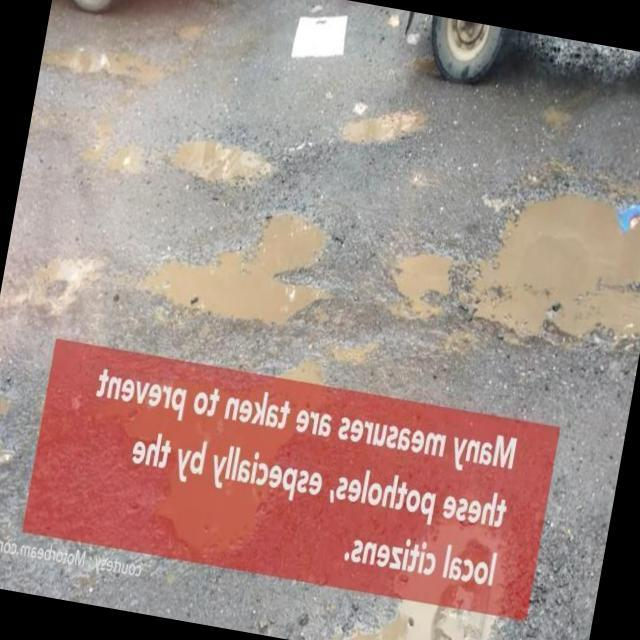Burst: (394, 178, 640, 339), (136, 203, 339, 339), (25, 258, 110, 332), (166, 141, 269, 194), (342, 107, 420, 150)
